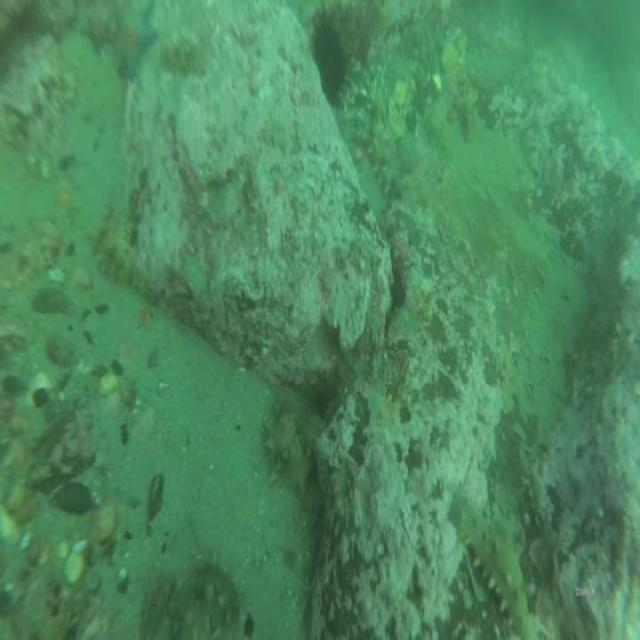echinus: (316, 28, 346, 98)
holothurian: (449, 493, 533, 640), (265, 400, 310, 479), (371, 138, 400, 198), (163, 40, 207, 79)
starfish: (116, 12, 154, 78)
